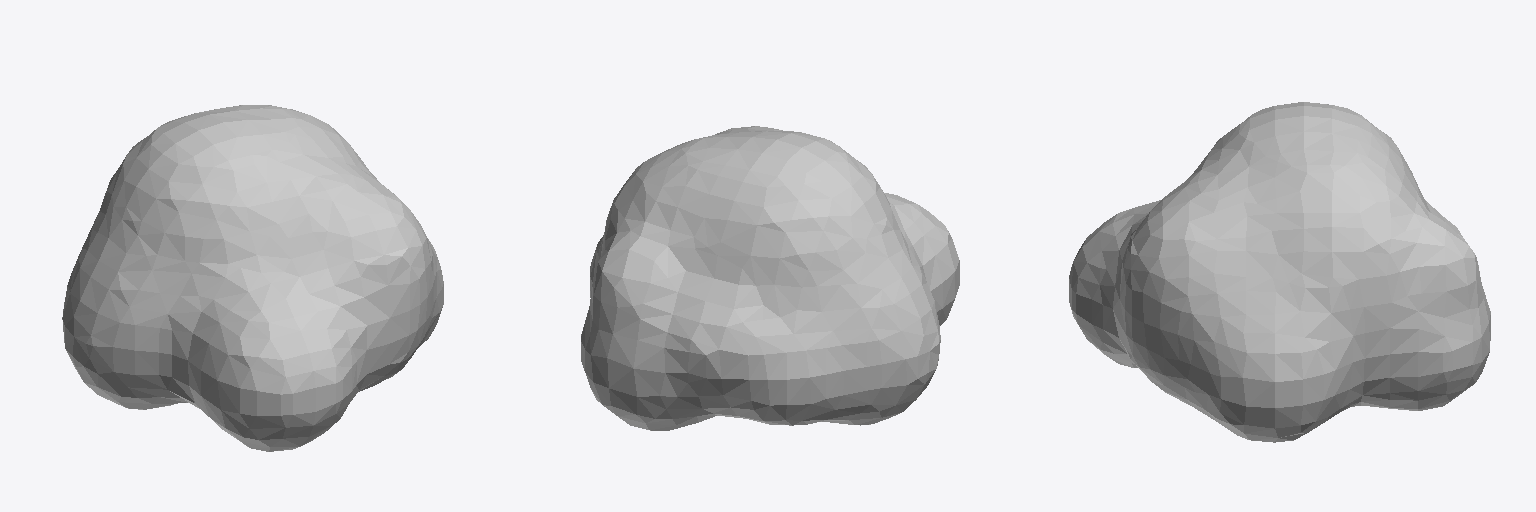
The model's file is Cloud2.obj.
3 renders of one model, left to right at view 1: azimuth 30°, elevation 25°; view 2: azimuth 150°, elevation 25°; view 3: azimuth 270°, elevation 25°, orthographic.
Parts seen in each view (by area): view 1: Cloud2; view 2: Cloud2; view 3: Cloud2.
Part boxes in pixels (bbox=[...]): Cloud2: bbox=[62, 105, 443, 451]; Cloud2: bbox=[581, 126, 959, 430]; Cloud2: bbox=[1069, 102, 1490, 442].
Size of the model in its own units: 7.42 by 5.36 by 7.88.